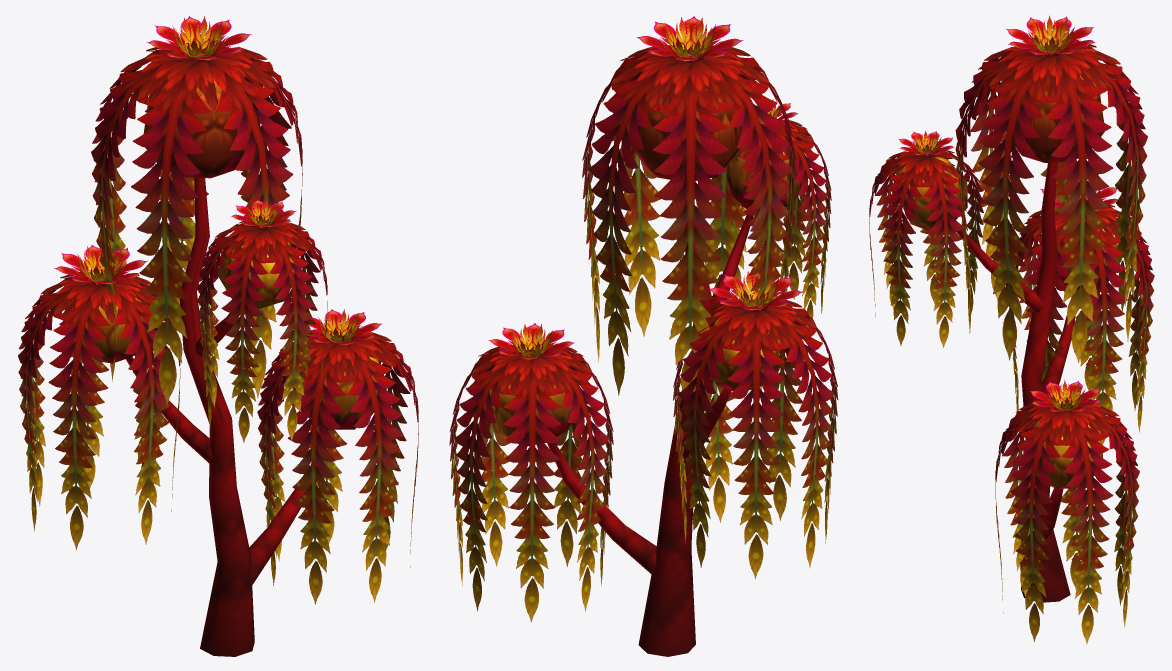
File: Red_Tree_10a.FBX
3 views of the same model, side by side, from view 1: azimuth 30°, elevation 25°; view 2: azimuth 150°, elevation 25°; view 3: azimuth 270°, elevation 25° (orthographic). The views are drawn at different scales.
Parts seen in each view (by area): view 1: Red_Tree_10a; view 2: Red_Tree_10a; view 3: Red_Tree_10a.
Part boxes in pixels (<box>): Red_Tree_10a: <box>18,16,418,656</box>; Red_Tree_10a: <box>449,16,838,656</box>; Red_Tree_10a: <box>869,15,1154,643</box>.
Bounding box in the file's own units: 233 × 367 × 172.
